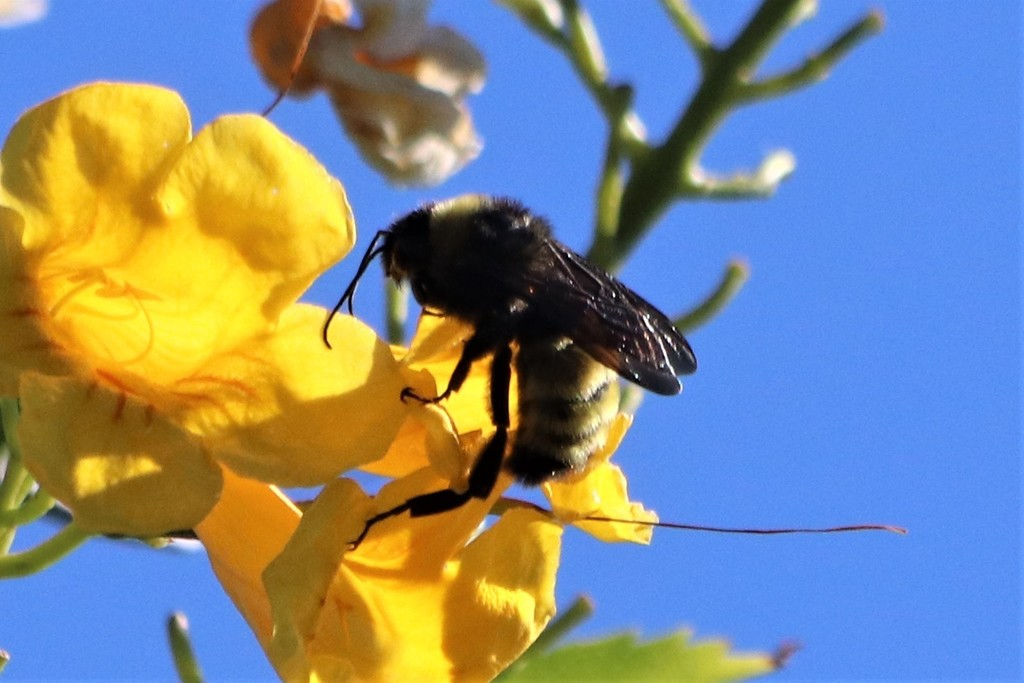bumblebee: (318, 193, 702, 555)
